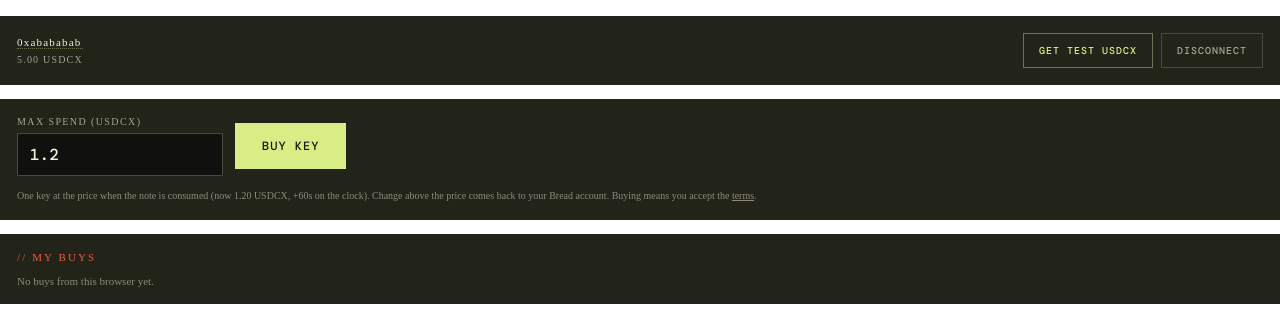
Test: PlayPanel › rejects a max spend below the price
Replace the text in the field with "0.5": (120,154) [17,133,223,176]
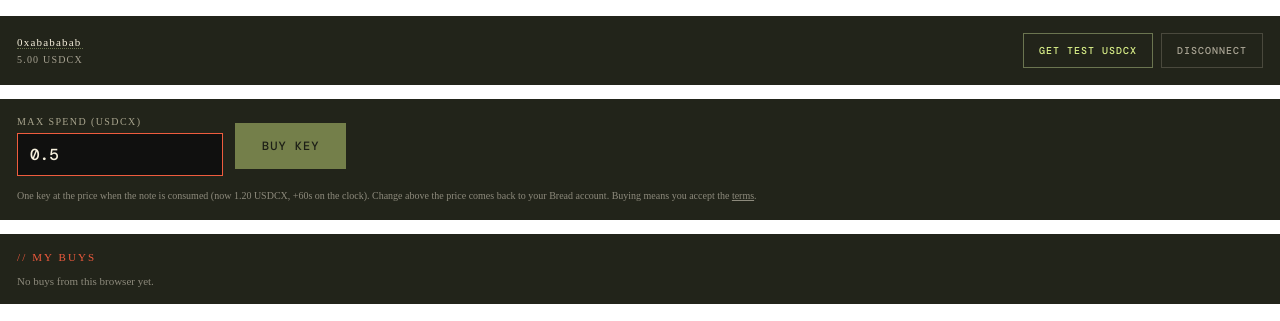
expect the button "BUY KEY" is disabled: met, box [235,123,346,169]
